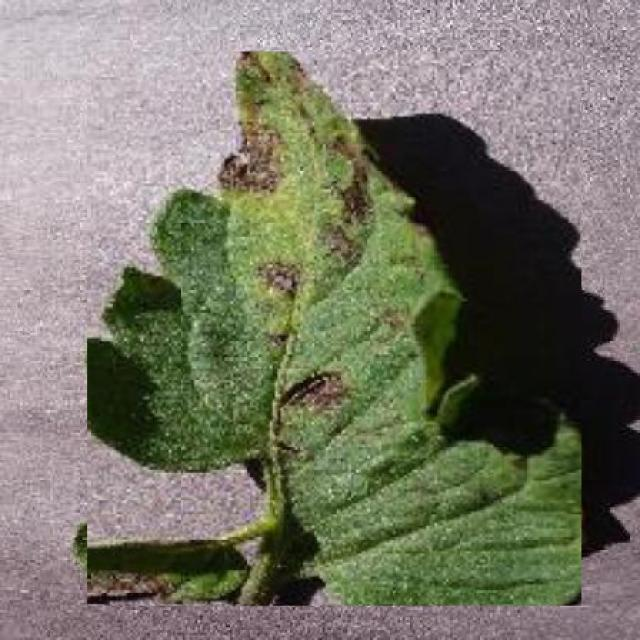Early Blight: (87, 52, 582, 605)
